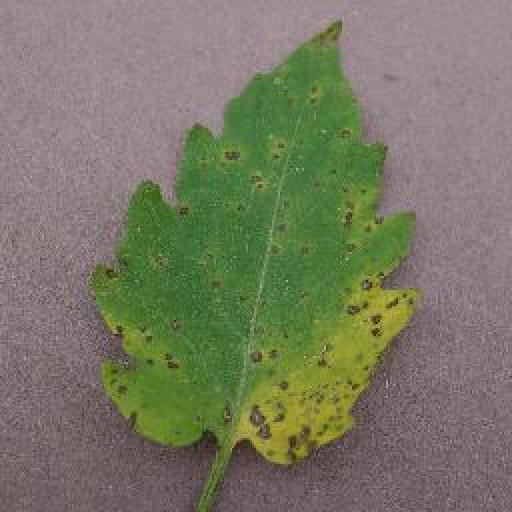disease_tomato: (89, 19, 424, 469)
